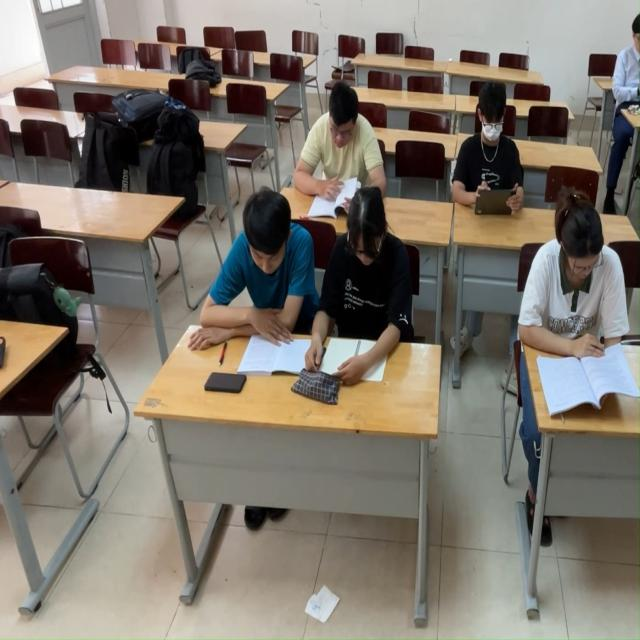read: (501, 186, 640, 418), (320, 192, 419, 407), (225, 185, 301, 380), (453, 69, 527, 231), (286, 84, 390, 185)
